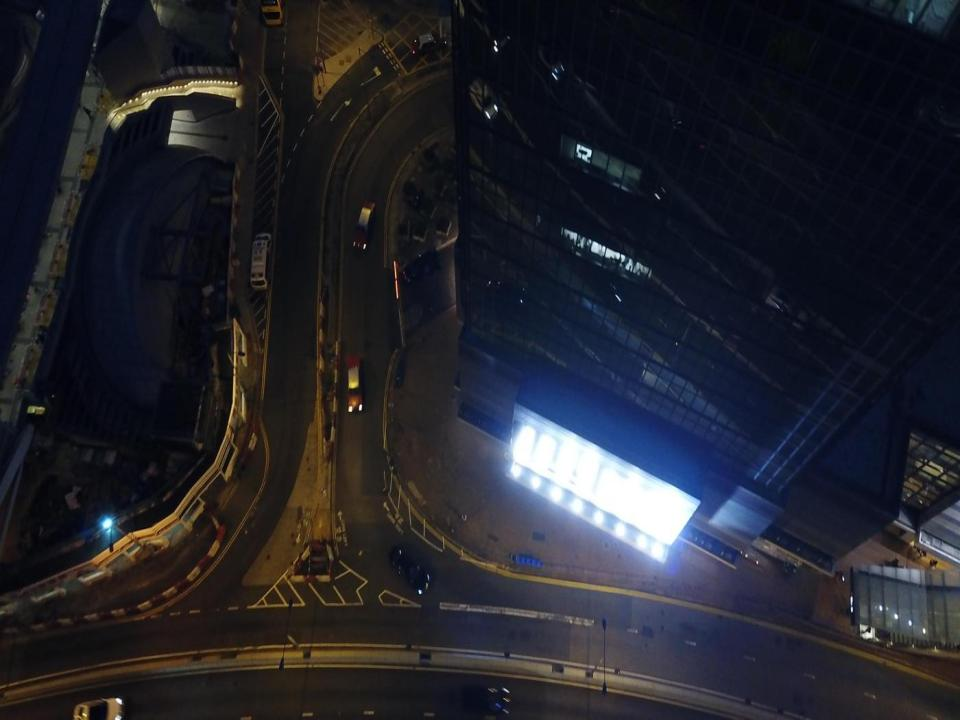car: (389, 546, 429, 596), (455, 687, 511, 715), (73, 696, 123, 718), (353, 201, 374, 249), (345, 356, 362, 410), (412, 32, 449, 55)
van: (250, 234, 272, 290)
